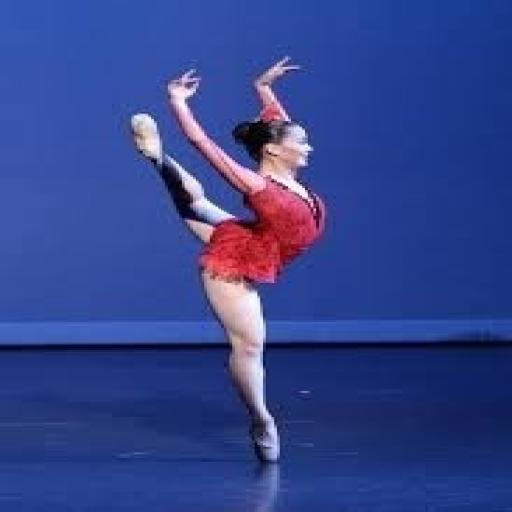dancing: (126, 54, 330, 465)
